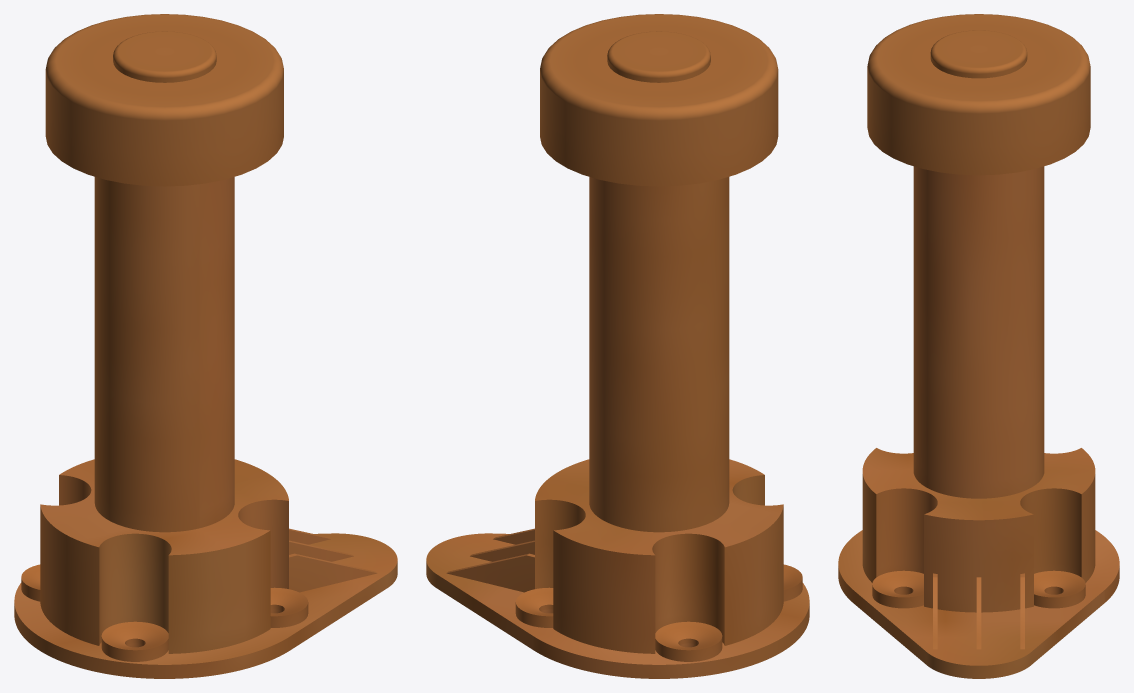
Rendered from opory_120_1791534981791.glb.
3 views of the same model, side by side, from view 1: azimuth 30°, elevation 25°; view 2: azimuth 150°, elevation 25°; view 3: azimuth 270°, elevation 25° (orthographic). The views are drawn at different scales.
Visible parts, largest first — view 1: Опора 120 мм; view 2: Опора 120 мм; view 3: Опора 120 мм.
Part boxes in pixels (x1,y1,x2,y2): Опора 120 мм: (14, 14, 397, 678); Опора 120 мм: (426, 14, 809, 678); Опора 120 мм: (838, 14, 1119, 678).
Bounding box in the file's own units: 0.079 × 0.12 × 0.058.
Materials: 1 (1 with a texture image).
